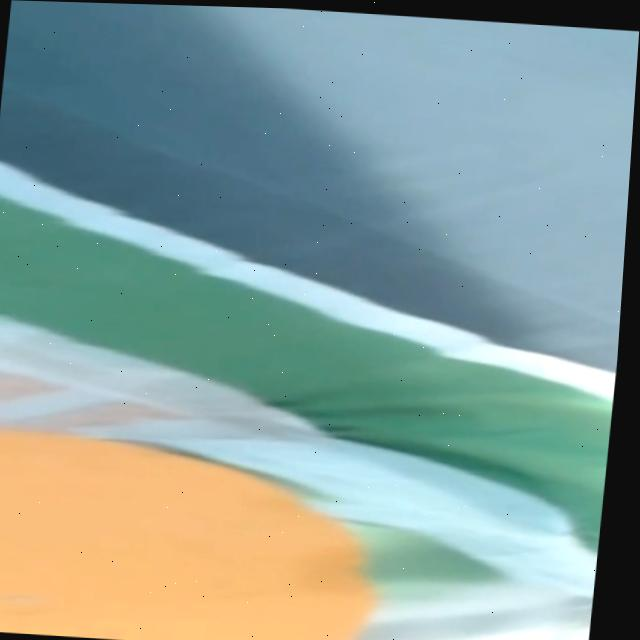right: (0, 161, 616, 399)
